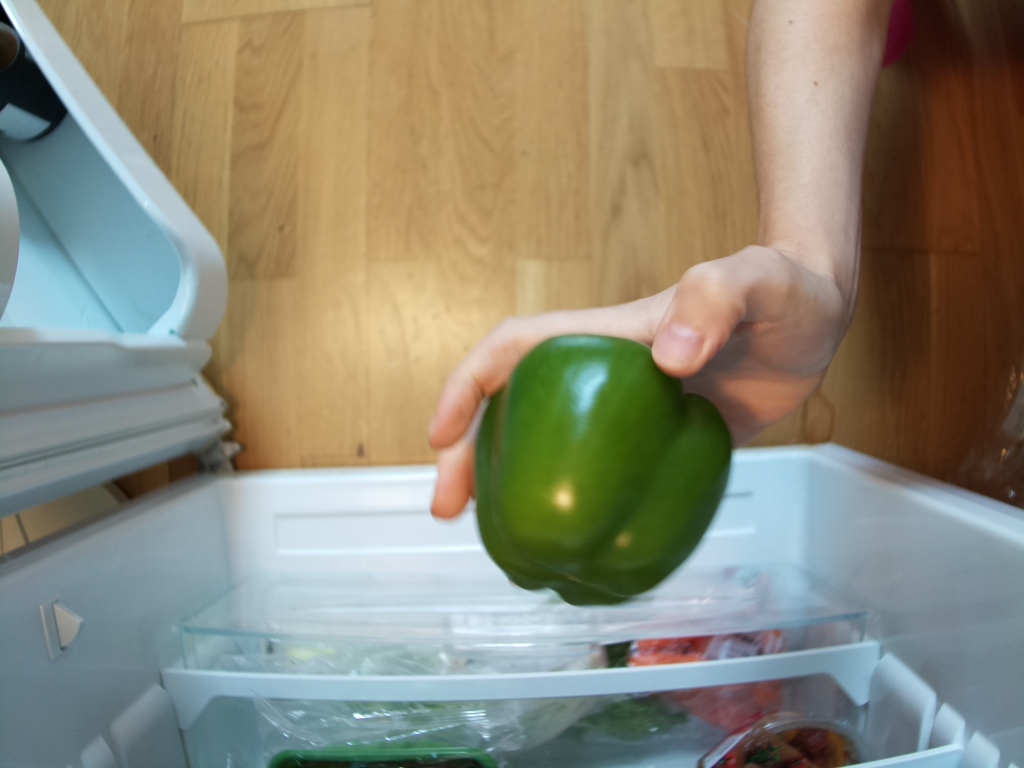pepper: (475, 333, 735, 608)
